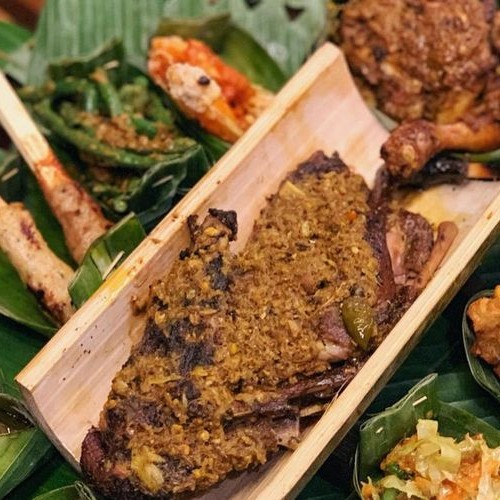bebek timbungan: (87, 143, 404, 500)
